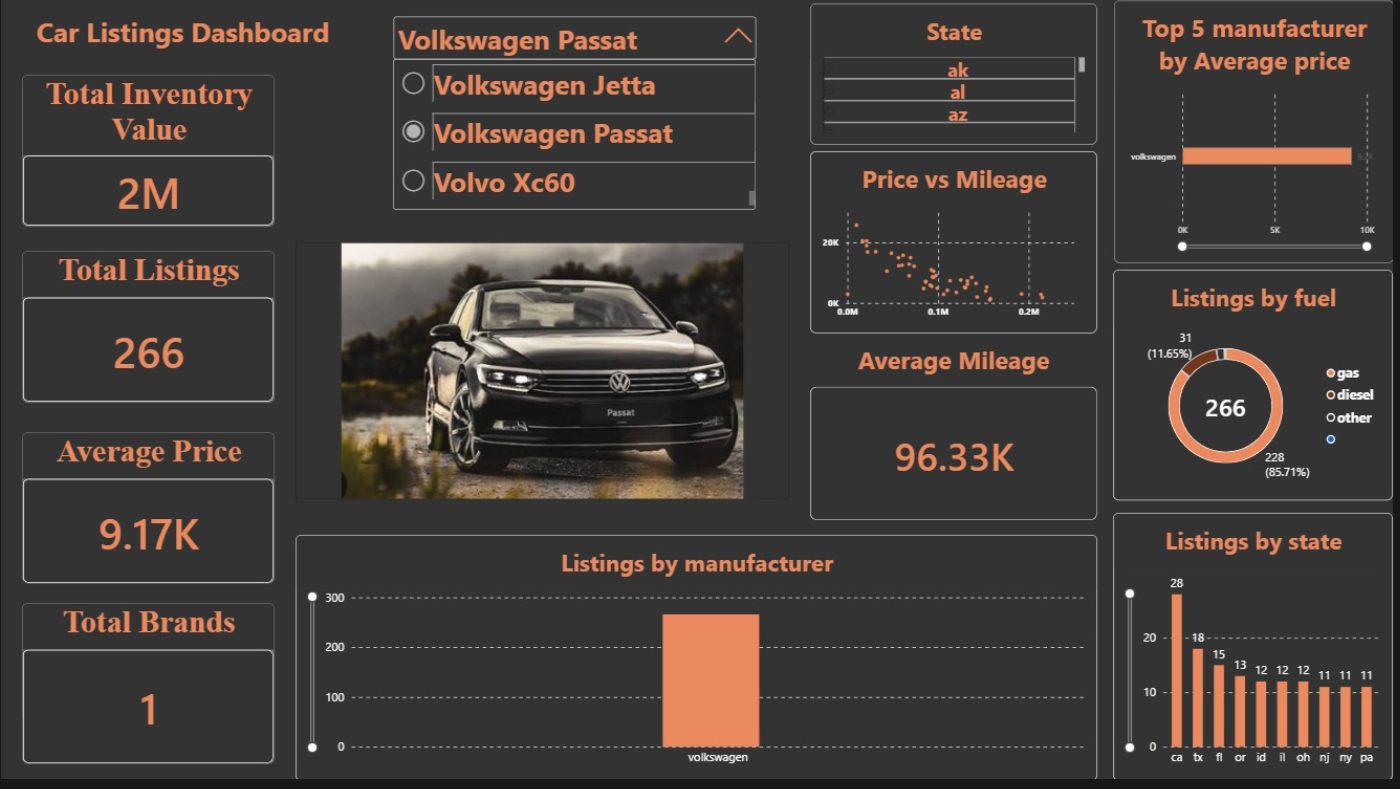

Layout of this report page (visuals, bound fields, positions):
{"tool":"powerbi","page":{"name":"Page 1","canvas":[1920,1080],"ordinal":0},"visuals":[{"type":"cardVisual","title":"Total Inventory Value","fields":{"Data":["Sum(cars_sample_80k_updated.price)"]},"box":[33.1,109.4,346.9,208.7],"z":0},{"type":"cardVisual","title":"Average Price","fields":{"Data":["Avg(cars_sample_80k_updated.price)"]},"box":[33.1,600.2,347,208.2],"z":1000},{"type":"cardVisual","title":"Total Brands","fields":{"Data":["Count(cars_sample_80k_updated.manufacturer)"]},"box":[33.1,834.8,347,221.4],"z":2000},{"type":"cardVisual","title":"Total Listings","fields":{"Data":["CountNonNull(cars_sample_80k_updated.price)"]},"box":[33.1,351.2,346.9,208.7],"z":3000},{"type":"slicer","fields":{"Values":["cars_sample_80k_updated.matched_car_name"]},"box":[538.3,24.5,508.1,132.4],"z":4000},{"type":"image","box":[408.8,339.7,677.9,352.6],"z":5000},{"type":"textbox","box":[47.5,24.5,413.1,61.9],"z":6000},{"type":"clusteredBarChart","title":"Top 5 manufacturer by Average price","fields":{"Category":["cars_sample_80k_updated.manufacturer"],"Y":["Avg(cars_sample_80k_updated.price)"]},"box":[1532.8,7.2,384.3,361.3],"z":7000},{"type":"donutChart","title":"Listings by fuel","fields":{"Category":["cars_sample_80k_updated.fuel"],"Y":["CountNonNull(cars_sample_80k_updated.price)"]},"box":[1531.4,377.1,384.3,316.6],"z":8000},{"type":"clusteredColumnChart","title":"Listings by state","fields":{"Category":["cars_sample_80k_updated.state"],"Y":["CountNonNull(cars_sample_80k_updated.price)"]},"box":[1531.4,711,384.3,368.5],"z":9000},{"type":"clusteredColumnChart","title":"Listings by manufacturer","fields":{"Category":["cars_sample_80k_updated.manufacturer"],"Y":["CountNonNull(cars_sample_80k_updated.price)"]},"box":[408.8,741.2,1101,338.2],"z":10000},{"type":"listSlicer","title":"State","fields":{"Values":["cars_sample_80k_updated.state"]},"box":[1115.4,11.5,394.4,194.3],"z":11000},{"type":"scatterChart","title":"Price vs Mileage","fields":{"Category":["cars_sample_80k_updated.model"],"X":["Avg(cars_sample_80k_updated.odometer)"],"Y":["Avg(cars_sample_80k_updated.price)"]},"box":[1115.4,214.5,394.4,250.4],"z":12000},{"type":"cardVisual","title":"Average Mileage","fields":{"Data":["Avg(cars_sample_80k_updated.odometer)"]},"box":[1115.4,477.8,394.4,243.2],"z":13000}]}

Visuals, with their boxes in screenshot pixels (x1, y1, x2, y2), scaled from the page's 1920x1080 canvas onto the 1400x789 screenshot:
"Total Inventory Value" cardVisual: pyautogui.locateOnScreen(24, 80, 277, 232)
"Average Price" cardVisual: pyautogui.locateOnScreen(24, 438, 277, 591)
"Total Brands" cardVisual: pyautogui.locateOnScreen(24, 610, 277, 772)
"Total Listings" cardVisual: pyautogui.locateOnScreen(24, 257, 277, 409)
slicer - cars_sample_80k_updated.matched_car_name: pyautogui.locateOnScreen(393, 18, 763, 115)
image: pyautogui.locateOnScreen(298, 248, 792, 506)
textbox: pyautogui.locateOnScreen(35, 18, 336, 63)
"Top 5 manufacturer by Average price" clusteredBarChart: pyautogui.locateOnScreen(1118, 5, 1398, 269)
"Listings by fuel" donutChart: pyautogui.locateOnScreen(1117, 275, 1397, 507)
"Listings by state" clusteredColumnChart: pyautogui.locateOnScreen(1117, 519, 1397, 788)
"Listings by manufacturer" clusteredColumnChart: pyautogui.locateOnScreen(298, 541, 1101, 788)
"State" listSlicer: pyautogui.locateOnScreen(813, 8, 1101, 150)
"Price vs Mileage" scatterChart: pyautogui.locateOnScreen(813, 157, 1101, 340)
"Average Mileage" cardVisual: pyautogui.locateOnScreen(813, 349, 1101, 527)
